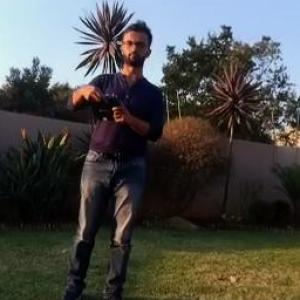follow: (49, 8, 166, 299)
